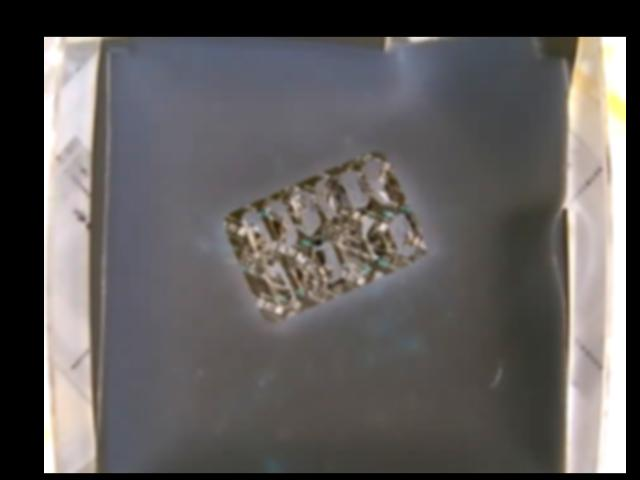Medicine: (229, 151, 428, 319)
